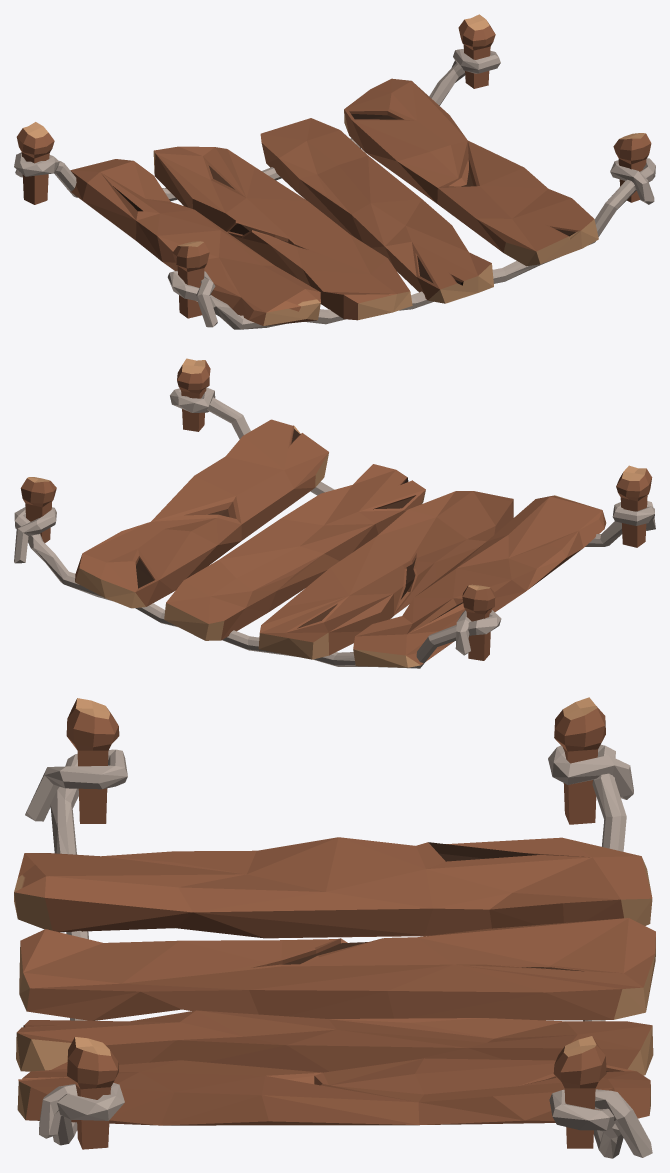
Rendered from Bridge_1.fbx.
3 views of the same model, one above another, from view 1: azimuth 30°, elevation 25°; view 2: azimuth 150°, elevation 25°; view 3: azimuth 270°, elevation 25° (orthographic). The views are drawn at different scales.
Visible parts, largest first — view 1: Bridge_1; view 2: Bridge_1; view 3: Bridge_1.
Part boxes in pixels (<box>): Bridge_1: <box>14,14,655,329</box>; Bridge_1: <box>14,358,655,668</box>; Bridge_1: <box>14,697,655,1158</box>.
Size of the model in its own units: 2.69 by 0.6299 by 1.97.
